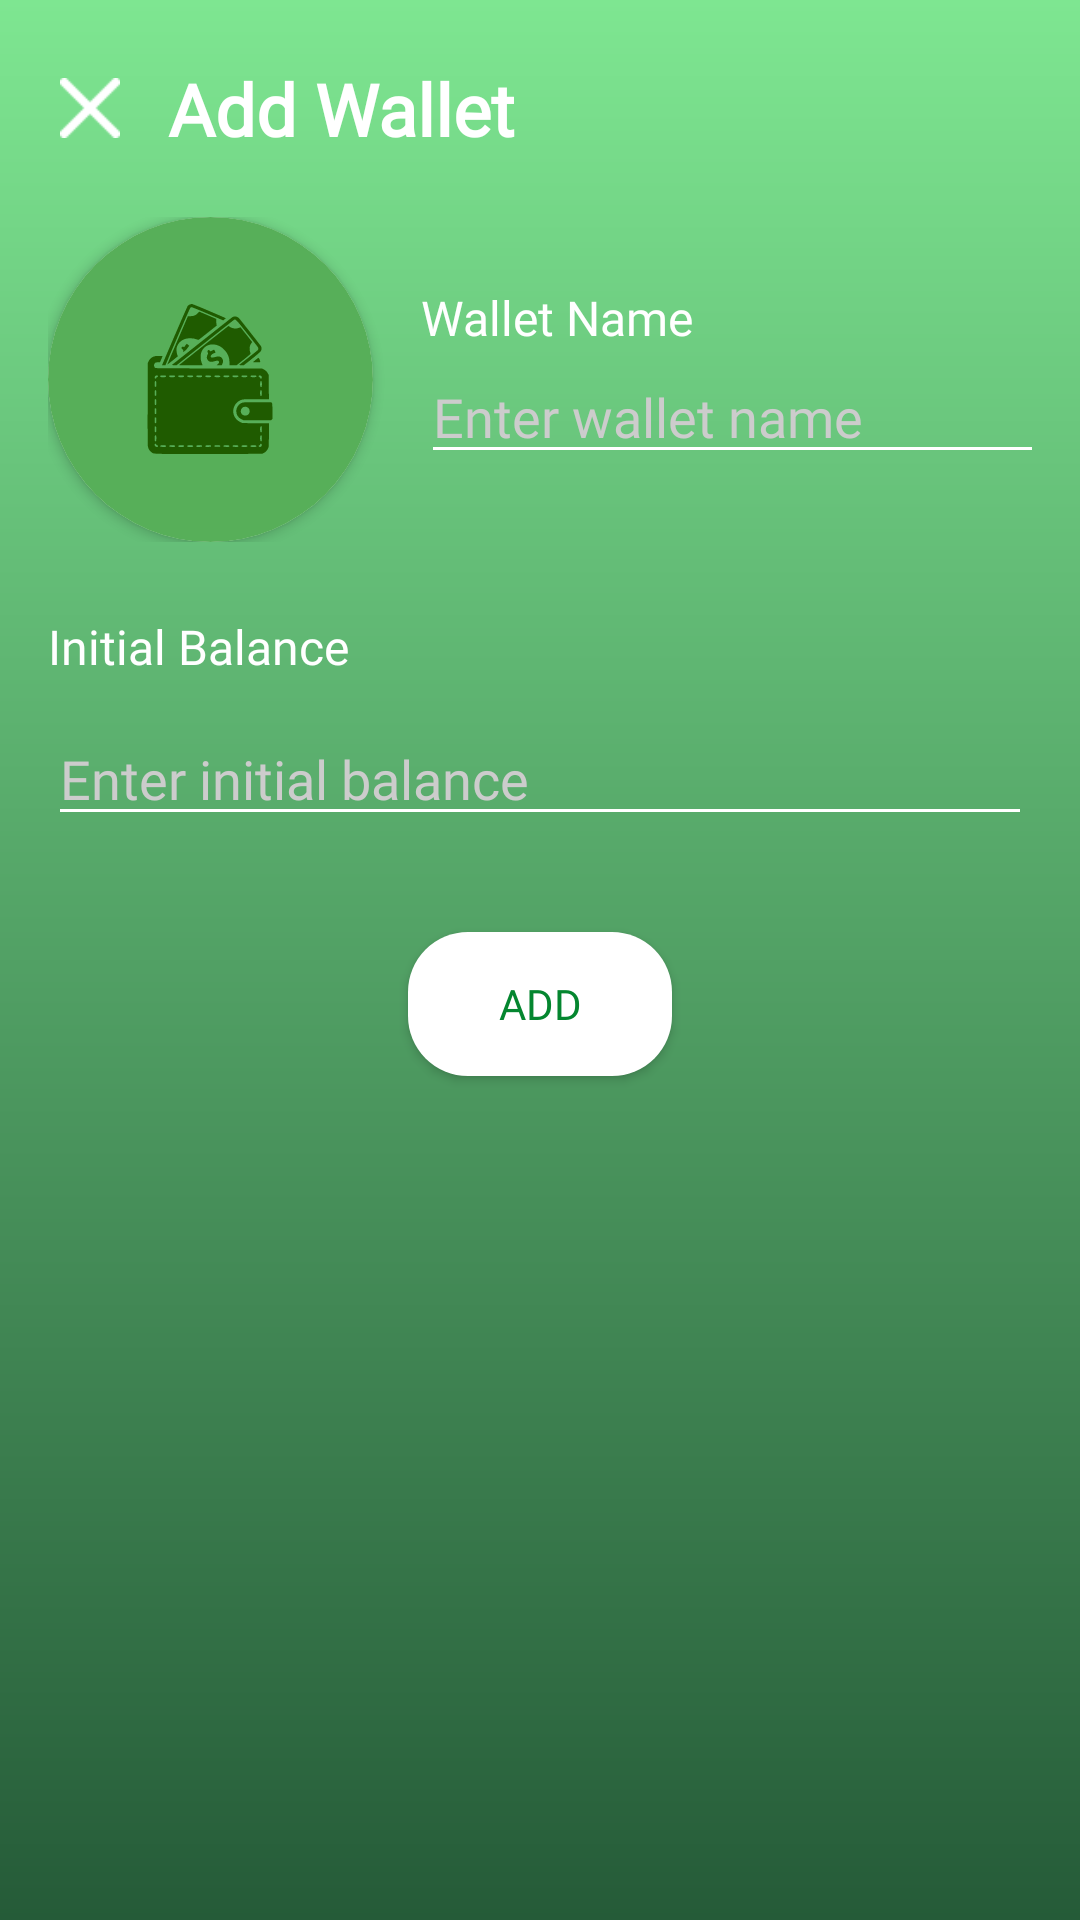

Screen size 1080px×1920px. Icon name, then its box in pixels as (x1, y1, x2, y2):
Close Button: (60, 78, 120, 138)
